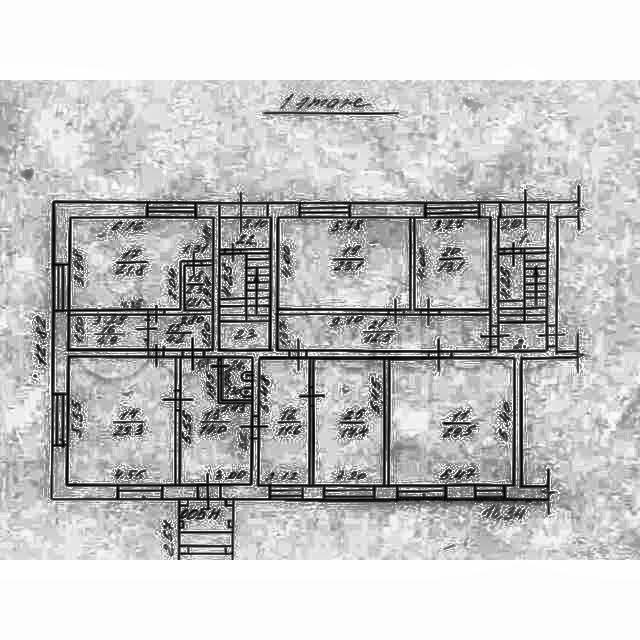room: (390, 360, 513, 485), (67, 358, 175, 483), (71, 218, 213, 310), (279, 219, 409, 308), (180, 358, 252, 485), (314, 359, 383, 484), (277, 315, 490, 351), (415, 218, 488, 308), (260, 358, 310, 485), (499, 254, 546, 350), (222, 254, 269, 349), (68, 316, 148, 349), (149, 315, 212, 349), (180, 499, 232, 531), (221, 218, 270, 248), (499, 218, 546, 247), (185, 266, 212, 310), (223, 357, 251, 399)
